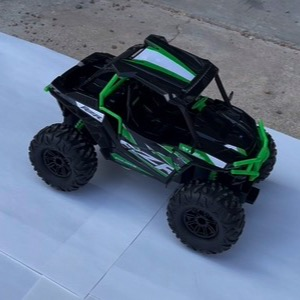polaris: (27, 34, 278, 259)
